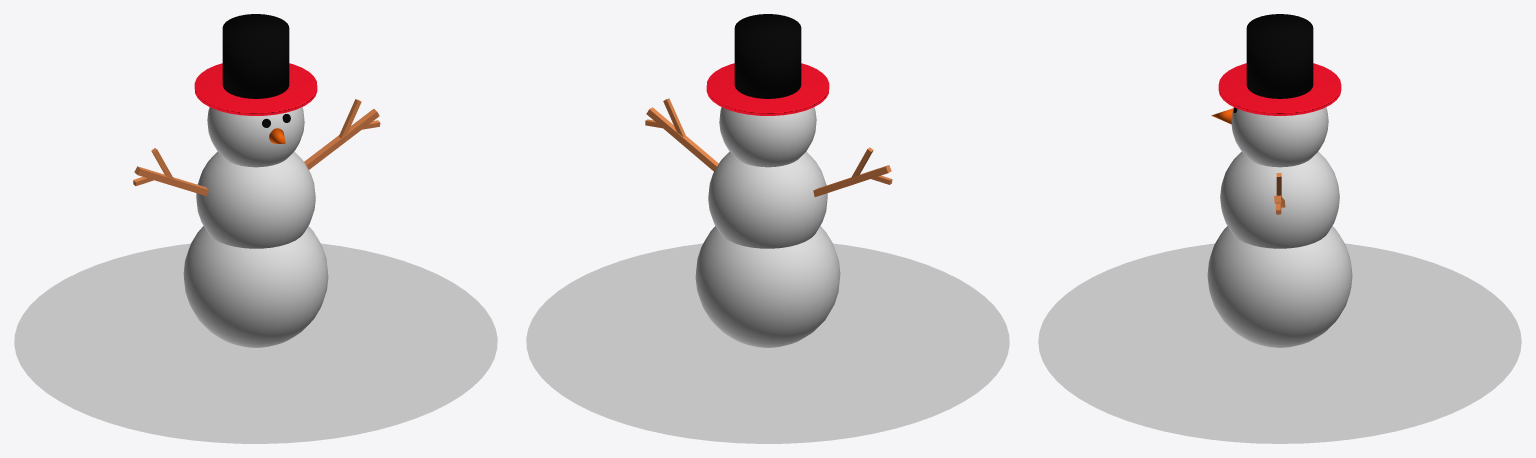
Rendered from snowman.glb.
The picture shows the model from 3 angles, left to right: view 1: azimuth 30°, elevation 25°; view 2: azimuth 150°, elevation 25°; view 3: azimuth 270°, elevation 25°; orthographic projection.
Visible parts, largest first — view 1: Ground, Snowball, Snowball.001, Hat, Head, Hat Brim, Stick, Stick.001; view 2: Ground, Snowball, Snowball.001, Hat, Head, Hat Brim, Stick, Stick.001; view 3: Ground, Snowball, Snowball.001, Hat, Head, Hat Brim.
Part boxes in pixels (box(x1,y1,x2,y2)): Ground: box(14, 243, 497, 443); Snowball: box(183, 226, 328, 347); Snowball.001: box(196, 151, 315, 248); Hat: box(222, 14, 289, 98); Head: box(207, 107, 304, 167); Hat Brim: box(194, 63, 317, 115); Stick: box(134, 109, 379, 196); Stick.001: box(151, 99, 361, 178); Ground: box(526, 243, 1009, 443); Snowball: box(695, 226, 840, 347); Snowball.001: box(708, 151, 827, 248); Hat: box(734, 14, 801, 98); Head: box(719, 107, 816, 167); Hat Brim: box(706, 63, 829, 115); Stick: box(646, 107, 891, 196); Stick.001: box(663, 98, 873, 177); Ground: box(1038, 243, 1521, 443); Snowball: box(1207, 226, 1352, 347); Snowball.001: box(1220, 151, 1339, 248); Hat: box(1246, 14, 1313, 98); Head: box(1231, 107, 1328, 167); Hat Brim: box(1218, 63, 1341, 115).
Size of the model in its own units: 3.05 by 2.18 by 3.05.
